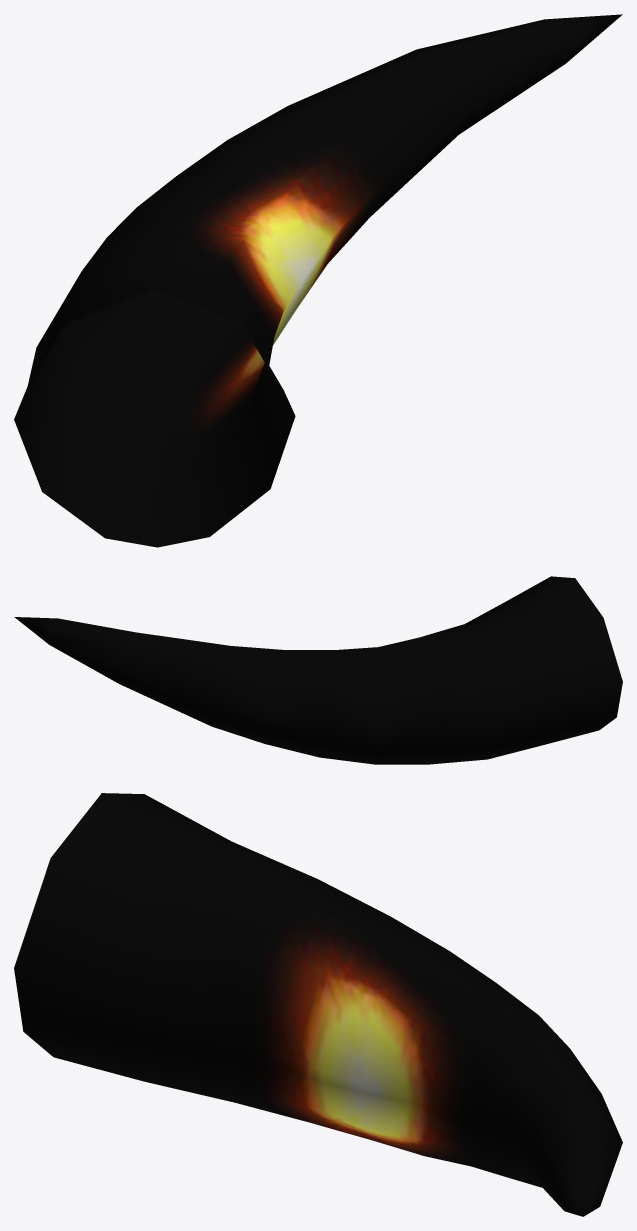
Rendered from 0461_weiba.glb.
The picture shows the model from 3 angles, top to bottom: view 1: azimuth 30°, elevation 25°; view 2: azimuth 150°, elevation 25°; view 3: azimuth 270°, elevation 25°; orthographic projection. The views are drawn at different scales.
Size of the model in its own units: 2.2 by 0.6573 by 1.38.
Materials: 1 (1 with a texture image).
